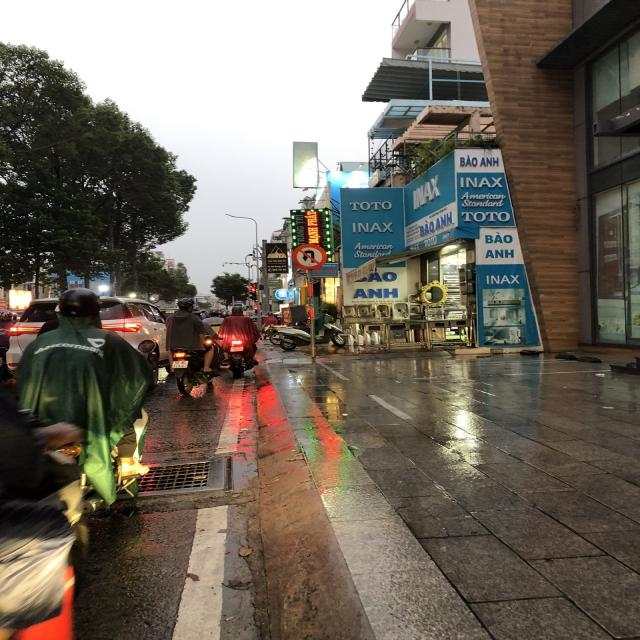Bien bao cam quay dau xe: (290, 241, 328, 273)
